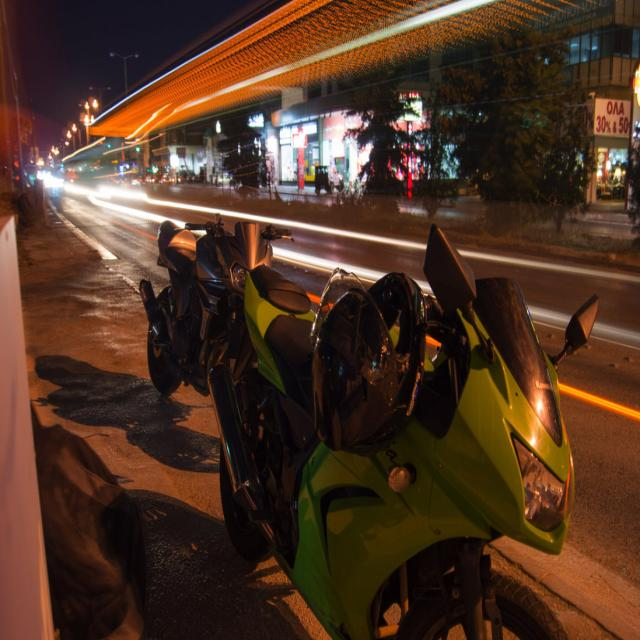Motorbike: (212, 218, 604, 640), (135, 206, 297, 415)
